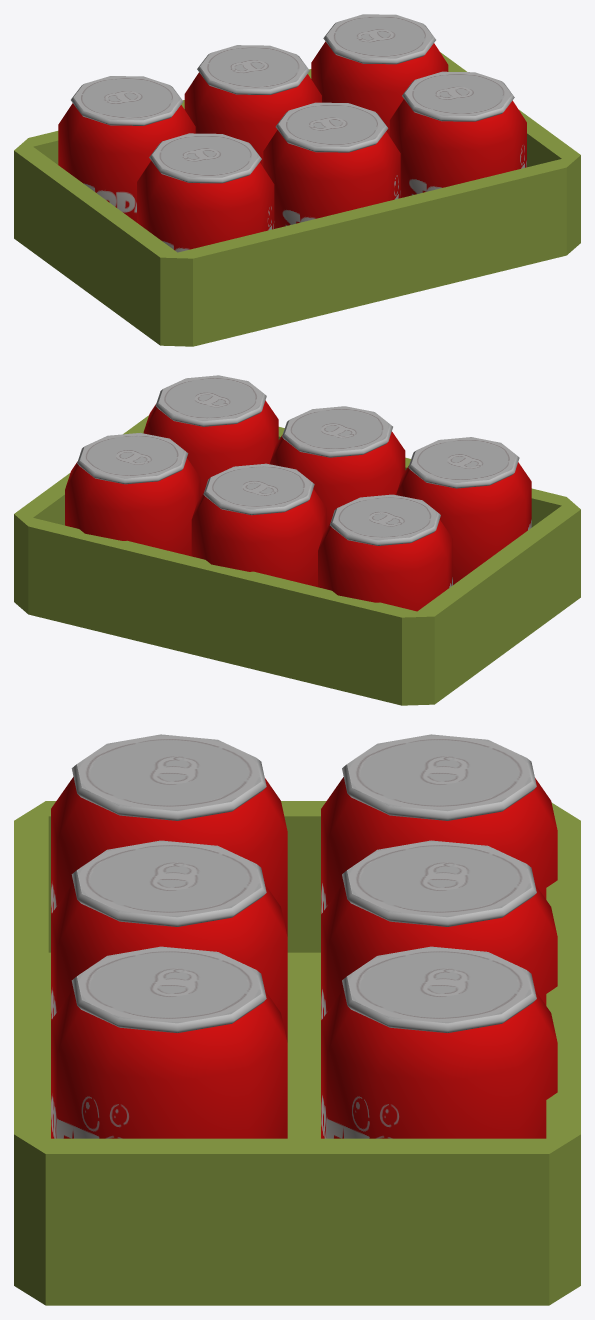
File: soda_box.fbx
3 renders of one model, top to bottom at view 1: azimuth 30°, elevation 25°; view 2: azimuth 150°, elevation 25°; view 3: azimuth 270°, elevation 25°, orthographic. The views are drawn at different scales.
Parts seen in each view (by area): view 1: Cube.065; view 2: Cube.065; view 3: Cube.065.
Part boxes in pixels (box(x1,y1,x2,y2)): Cube.065: box(14, 14, 580, 346); Cube.065: box(14, 375, 580, 705); Cube.065: box(14, 734, 580, 1305).
Size of the model in its own units: 75.97 by 24.9 by 51.56.
